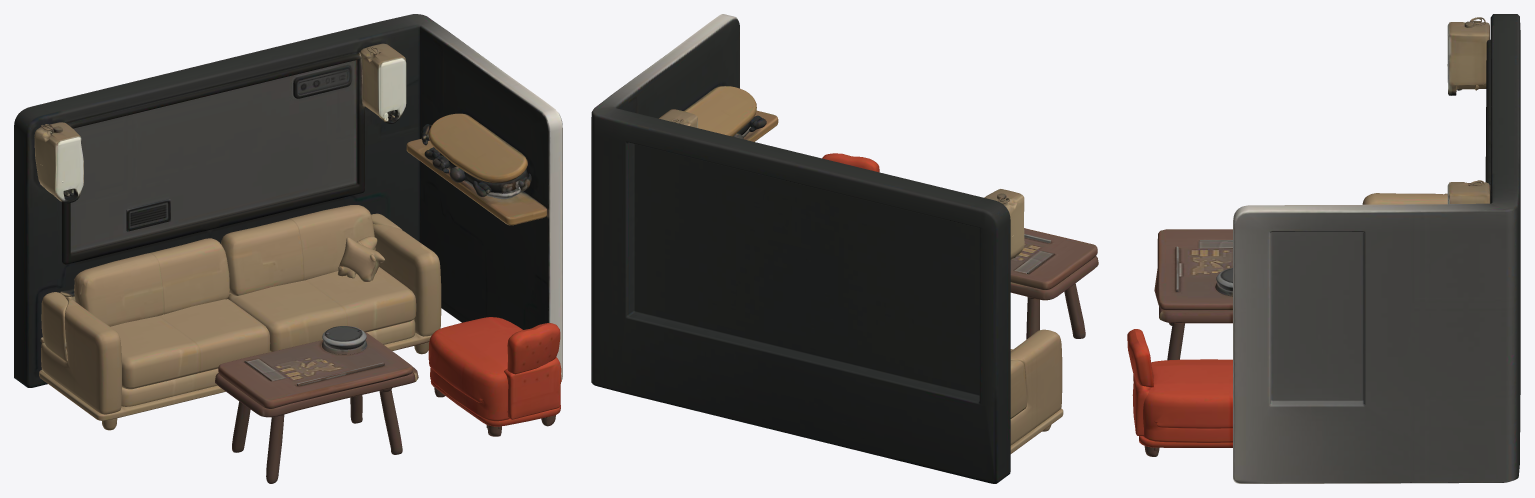
Rendered from toonstudio_karaoke.glb.
3 renders of one model, left to right at view 1: azimuth 30°, elevation 25°; view 2: azimuth 150°, elevation 25°; view 3: azimuth 270°, elevation 25°, orthographic.
Visible parts, largest first — view 1: f4180adf_77a3_497e_8b70_28616571322e; view 2: f4180adf_77a3_497e_8b70_28616571322e; view 3: f4180adf_77a3_497e_8b70_28616571322e.
Boxes of the visible parts, x1,y1,x2,y2 form: f4180adf_77a3_497e_8b70_28616571322e: (14,14,562,483); f4180adf_77a3_497e_8b70_28616571322e: (591,14,1098,483); f4180adf_77a3_497e_8b70_28616571322e: (1127,14,1520,483).
Bounding box in the file's own units: 3 × 1.9 × 2.46.
Materials: 1 (1 with a texture image).
